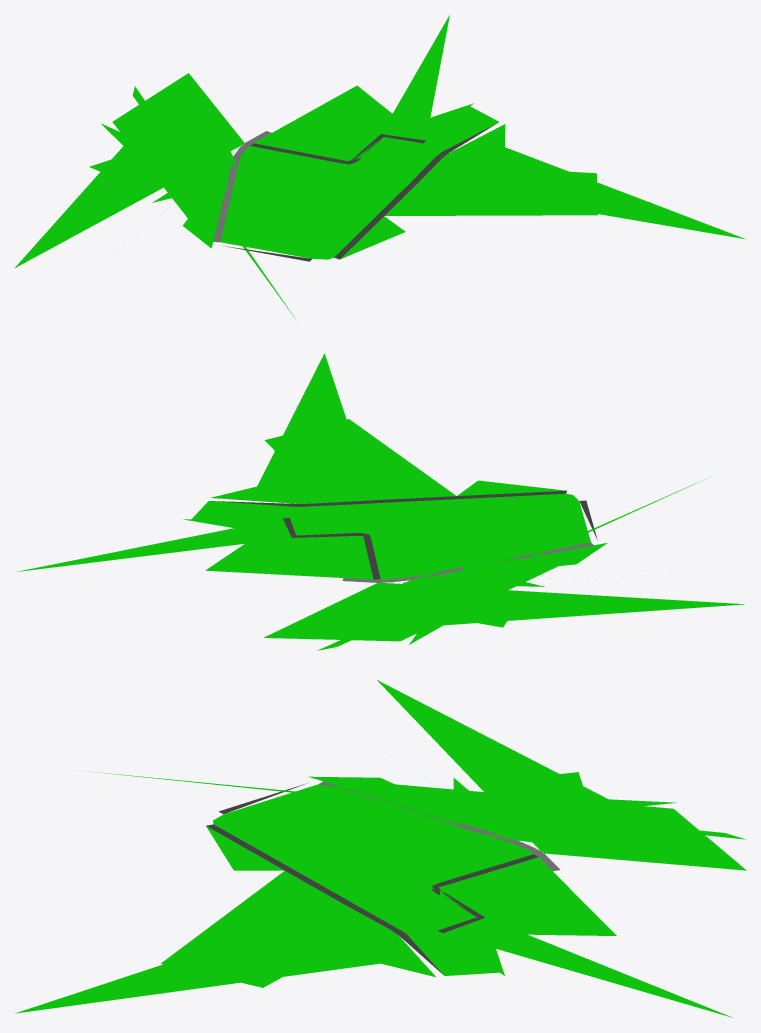
The picture shows the model from 3 angles, top to bottom: view 1: azimuth 30°, elevation 25°; view 2: azimuth 150°, elevation 25°; view 3: azimuth 270°, elevation 25°; orthographic projection. The views are drawn at different scales.
Bounding box in the file's own units: 328 × 0 × 300.
